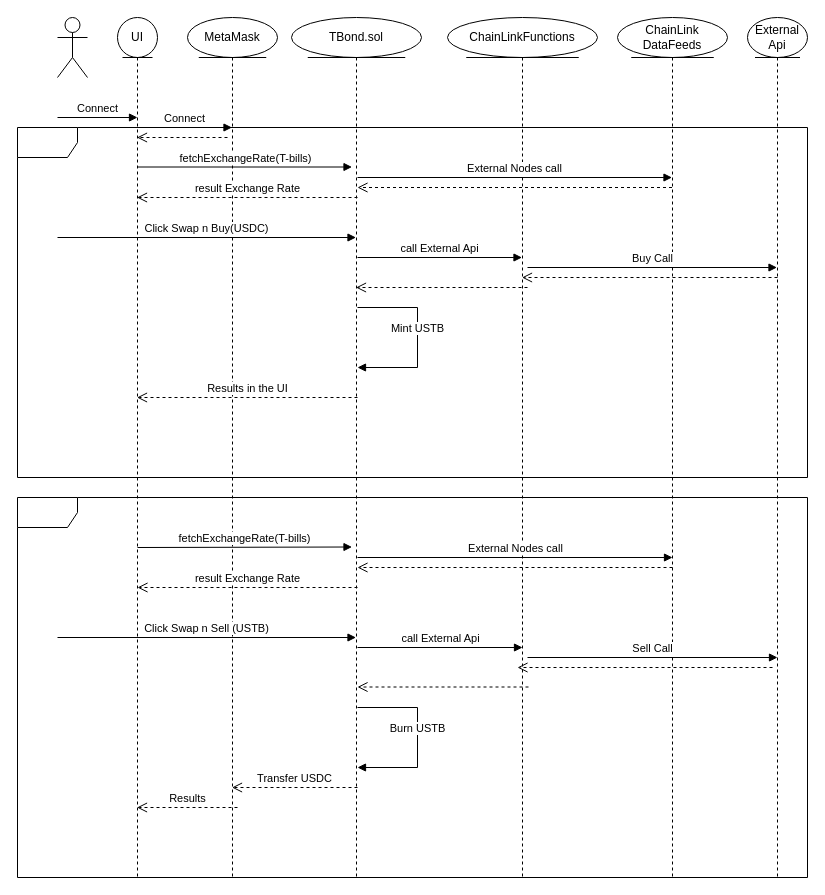
The diagram is 825 pixels wide and 895 high, and some of its shapes have lost their labels. The shapes that lost their labels are listed below. From the top down, each one's centre as x and y in pixels, then its label:
pixel 72 47: Actor
pixel 412 302: Buy
pixel 412 687: Sell
